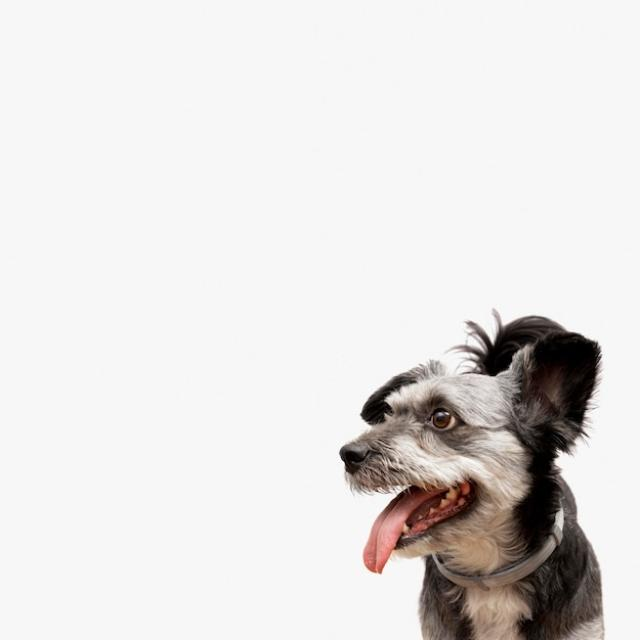Dog: (339, 314, 603, 640)
